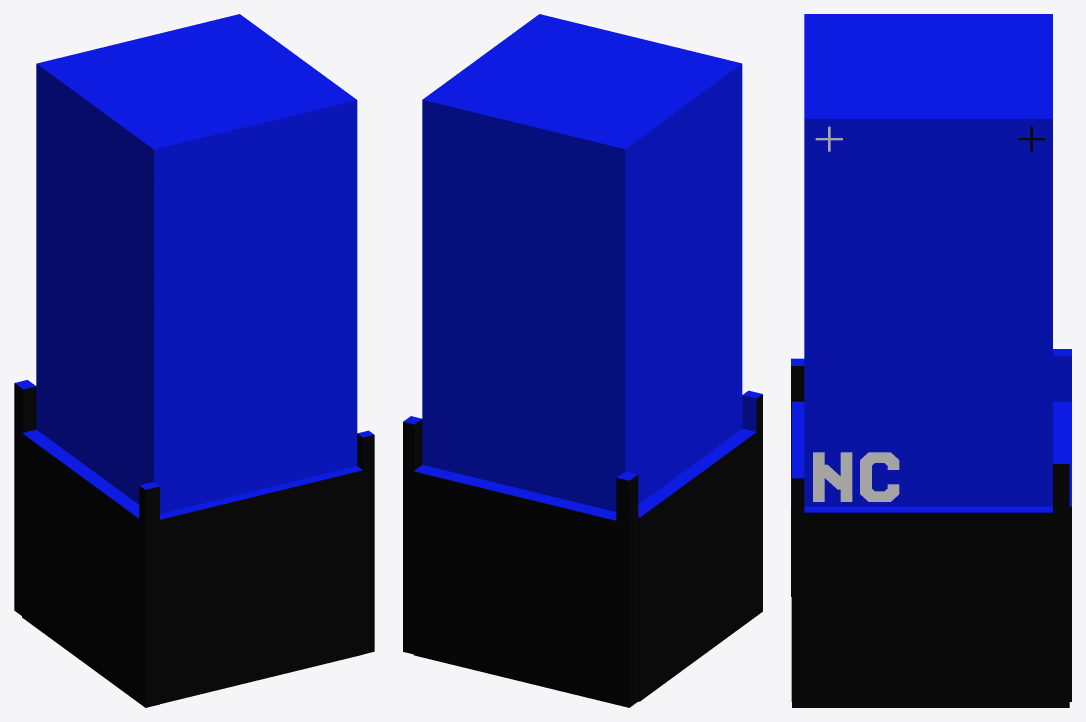
The model's file is building-NC.fbx.
3 renders of one model, left to right at view 1: azimuth 30°, elevation 25°; view 2: azimuth 150°, elevation 25°; view 3: azimuth 270°, elevation 25°, orthographic. The views are drawn at different scales.
Parts seen in each view (by area): view 1: Cube; view 2: Cube; view 3: Cube, Curve.002.
Part boxes in pixels (bbox=[...]): Cube: bbox=[14, 14, 374, 707]; Cube: bbox=[403, 14, 762, 707]; Cube: bbox=[791, 14, 1071, 707]; Curve.002: bbox=[813, 452, 899, 501].
Bounding box in the file's own units: 364 × 836 × 365.
